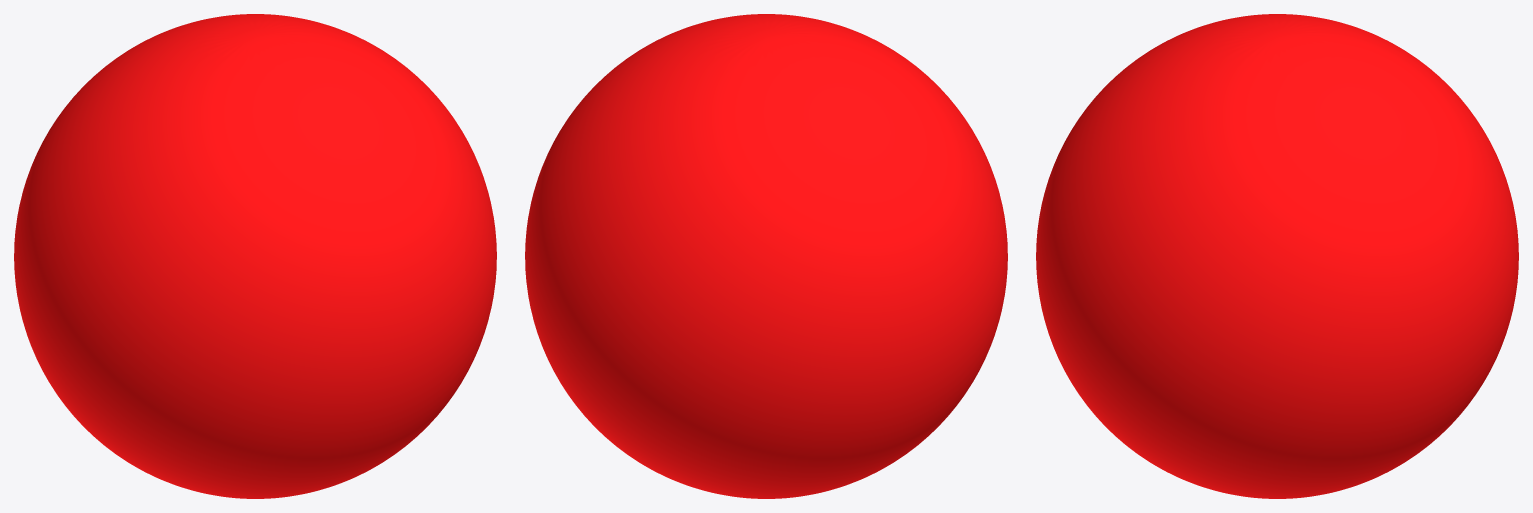
Rendered from Oxigeno.fbx.
3 views of the same model, side by side, from view 1: azimuth 30°, elevation 25°; view 2: azimuth 150°, elevation 25°; view 3: azimuth 270°, elevation 25° (orthographic).
Visible parts, largest first — view 1: Sphere; view 2: Sphere; view 3: Sphere.
Part boxes in pixels (<box>): Sphere: <box>14,14,496,498</box>; Sphere: <box>525,14,1007,498</box>; Sphere: <box>1036,14,1518,498</box>.
Bounding box in the file's own units: 198 × 200 × 198.
